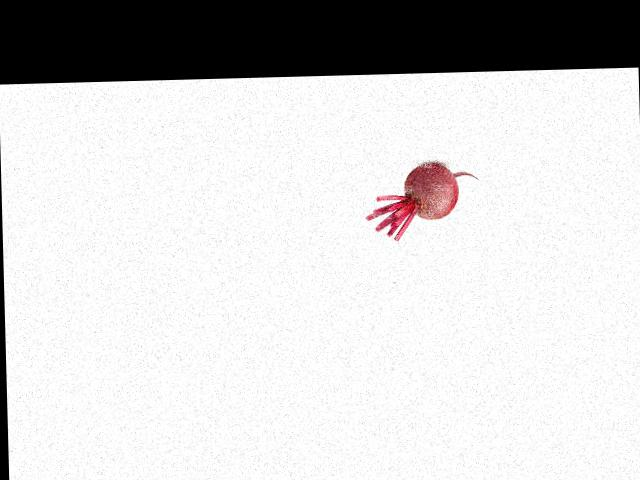beet: (364, 162, 479, 241)
